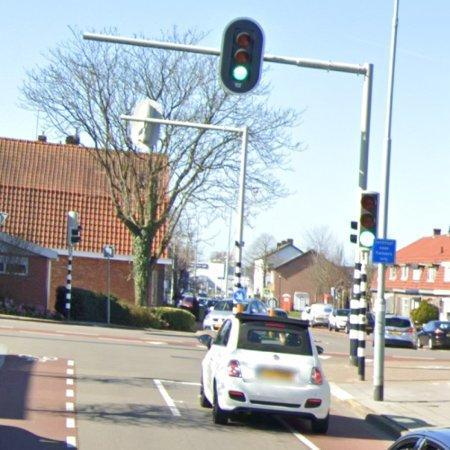traffic lights: (220, 18, 264, 94), (357, 191, 381, 246)
